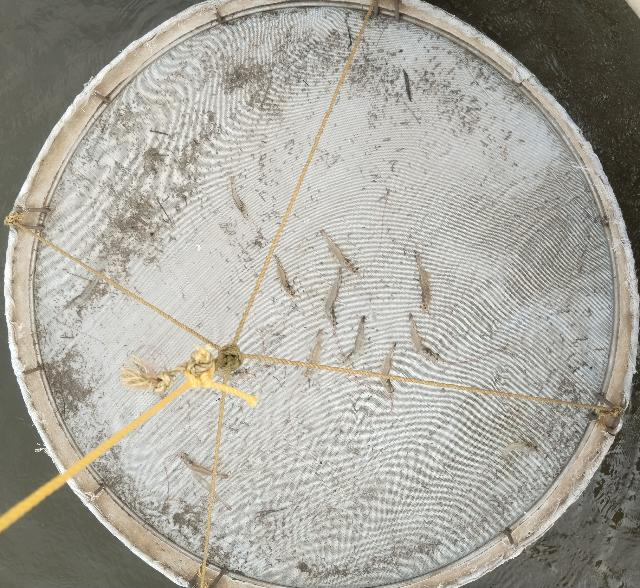shrimp: (320, 229, 360, 277), (409, 314, 443, 362), (65, 269, 103, 309), (338, 316, 366, 368), (178, 452, 227, 480), (322, 267, 342, 332), (415, 254, 433, 314), (273, 255, 296, 299), (379, 343, 396, 397), (304, 331, 322, 377), (231, 176, 249, 220), (503, 443, 539, 461)
